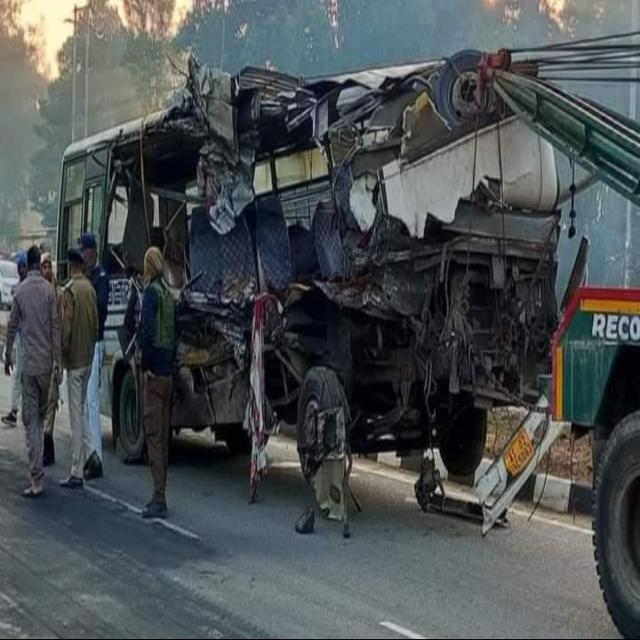accident: (58, 51, 562, 531)
